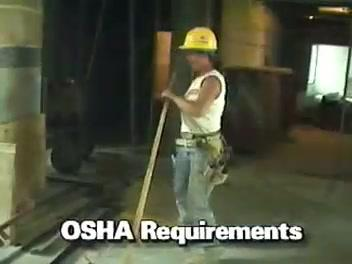no -hi-vis jacket: (179, 75, 227, 141)
